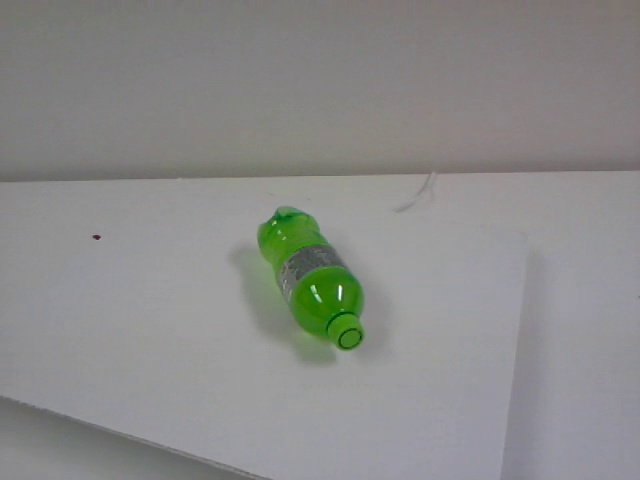botolplastik: (257, 208, 365, 350)
